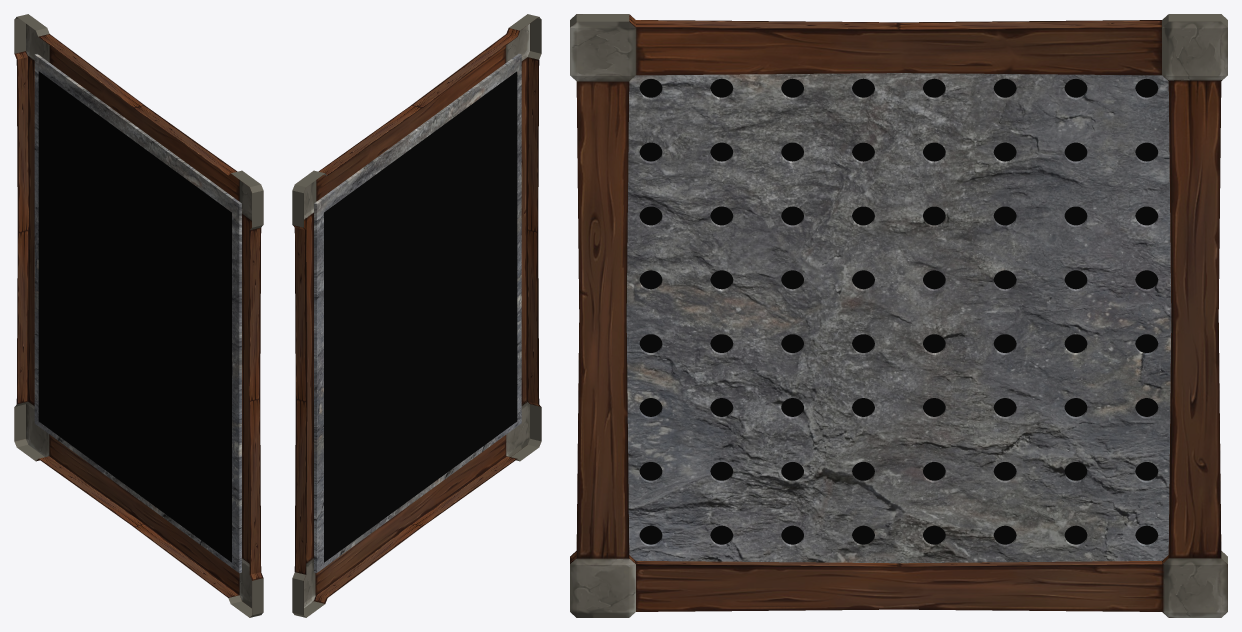
File: walltower.fbx
3 views of the same model, side by side, from view 1: azimuth 30°, elevation 25°; view 2: azimuth 150°, elevation 25°; view 3: azimuth 270°, elevation 25° (orthographic). The views are drawn at different scales.
Parts seen in each view (by area): view 1: Plane.001, Base, Plane; view 2: Plane.001, Base, Plane; view 3: Plane, Base, Plane.001.
Boxes of the visible parts, bbox=[...] form: Plane.001: bbox=[38, 71, 231, 562]; Base: bbox=[14, 14, 263, 617]; Plane: bbox=[34, 54, 241, 573]; Plane.001: bbox=[324, 71, 517, 562]; Base: bbox=[292, 14, 541, 617]; Plane: bbox=[314, 54, 521, 572]; Plane: bbox=[626, 73, 1171, 563]; Base: bbox=[570, 14, 1227, 617]; Plane.001: bbox=[639, 78, 1158, 544].
Size of the model in its own units: 0.3 by 10 by 10.
